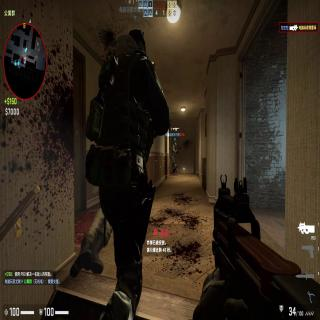CT-Body: (85, 30, 169, 312), (170, 141, 181, 173)
CT-Head: (128, 28, 146, 56), (175, 142, 178, 148)
